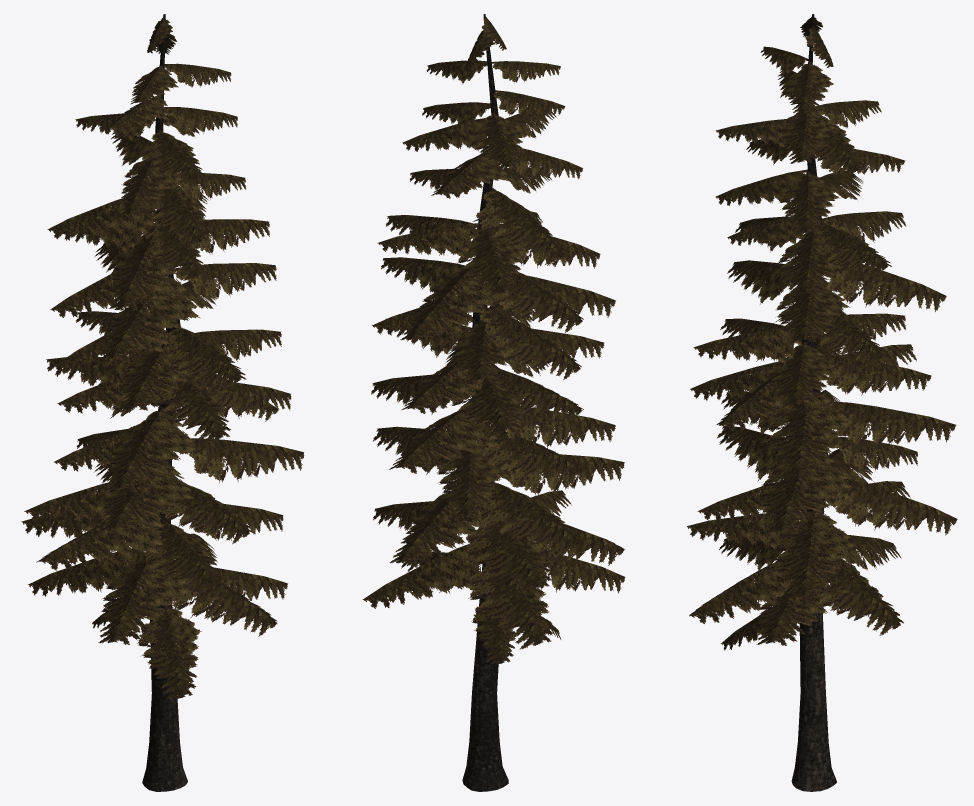
File: tree_10.glb
3 views of the same model, side by side, from view 1: azimuth 30°, elevation 25°; view 2: azimuth 150°, elevation 25°; view 3: azimuth 270°, elevation 25° (orthographic).
Visible parts, largest first — view 1: tree_10_branches, tree_10; view 2: tree_10_branches, tree_10; view 3: tree_10_branches, tree_10.
Part boxes in pixels (left/top/right/bottom): tree_10_branches: left=21, top=17, right=304, bottom=698; tree_10: left=142, top=14, right=187, bottom=791; tree_10_branches: left=362, top=17, right=625, bottom=663; tree_10: left=462, top=14, right=508, bottom=791; tree_10_branches: left=687, top=17, right=957, bottom=650; tree_10: left=791, top=14, right=836, bottom=791.
Size of the model in its own units: 3.7 by 10.11 by 3.42.
Materials: 2 (2 with a texture image).
